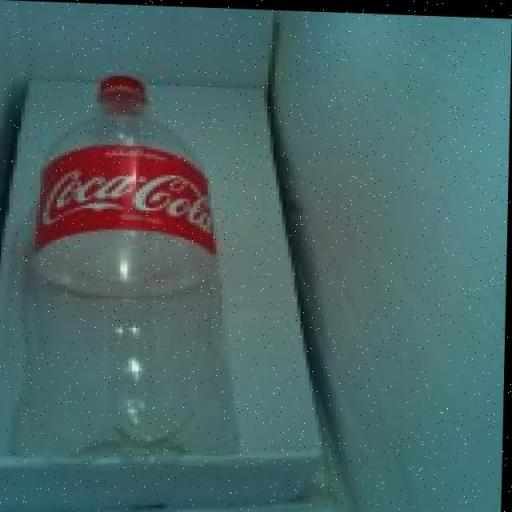plastic: (23, 67, 258, 474)
